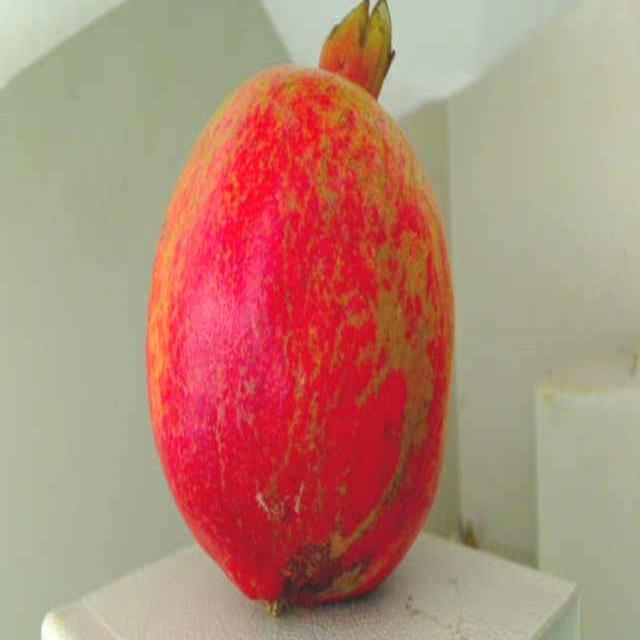pomegranate: (132, 0, 474, 640)
